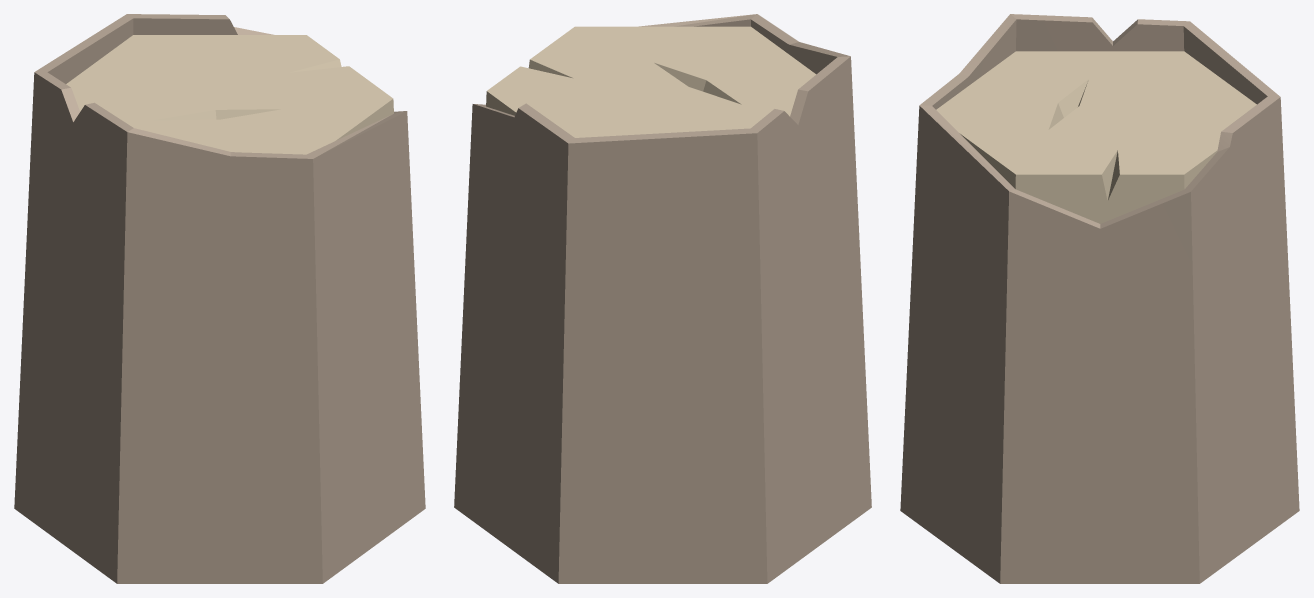
Rendered from Hilly_Prop_Stump.glb.
The picture shows the model from 3 angles, left to right: view 1: azimuth 30°, elevation 25°; view 2: azimuth 150°, elevation 25°; view 3: azimuth 270°, elevation 25°; orthographic projection. The views are drawn at different scales.
Visible parts, largest first — view 1: Hilly_Prop_Stump; view 2: Hilly_Prop_Stump; view 3: Hilly_Prop_Stump.
Boxes of the visible parts, x1,y1,x2,y2 form: Hilly_Prop_Stump: (14, 14, 425, 583); Hilly_Prop_Stump: (454, 14, 871, 583); Hilly_Prop_Stump: (900, 14, 1299, 583).
Size of the model in its own units: 0.433 by 0.5959 by 0.5.
